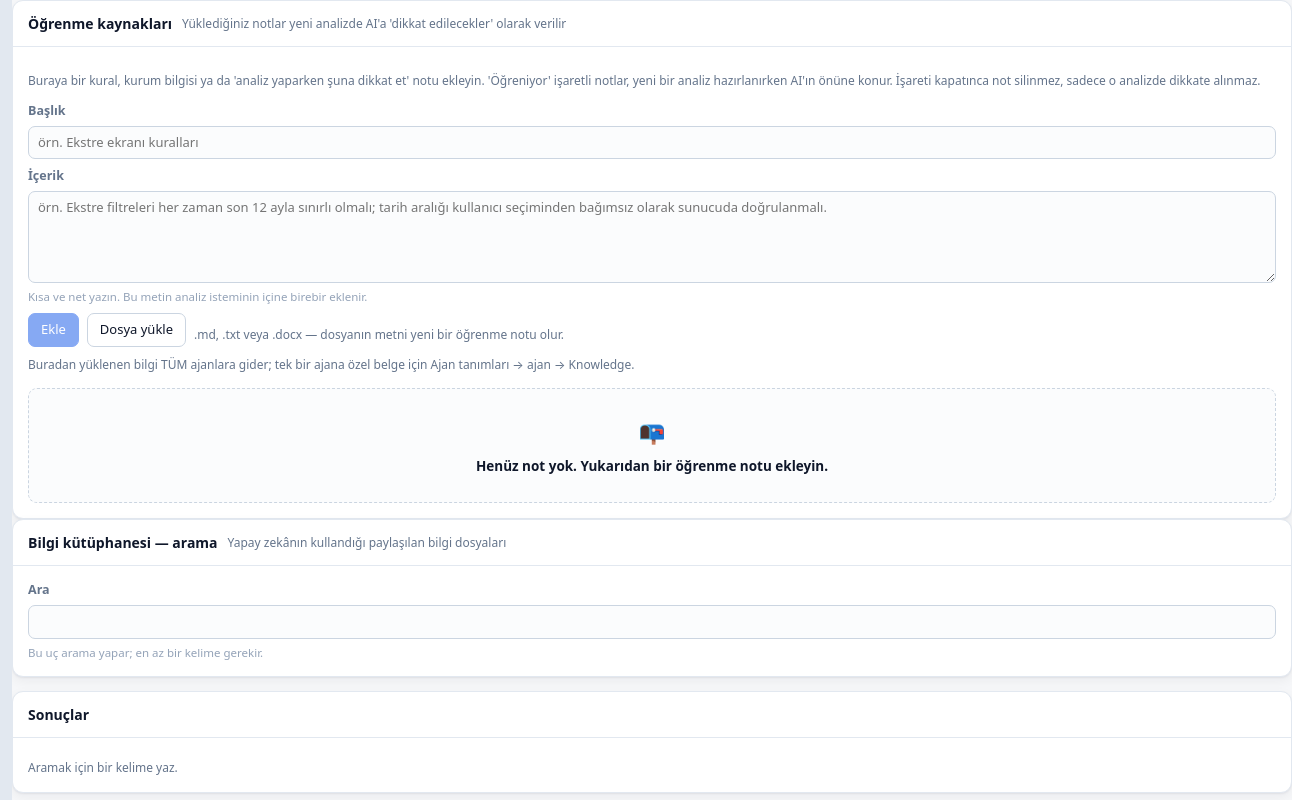
Scenario: KnowledgeScreen (data class fails closed) › drops confidential and untagged documents from the results
Type "limit" into the field labelled "Ara" at (652, 622), box top-left (28, 605), bottom-right (1276, 639)
(page scrolled)
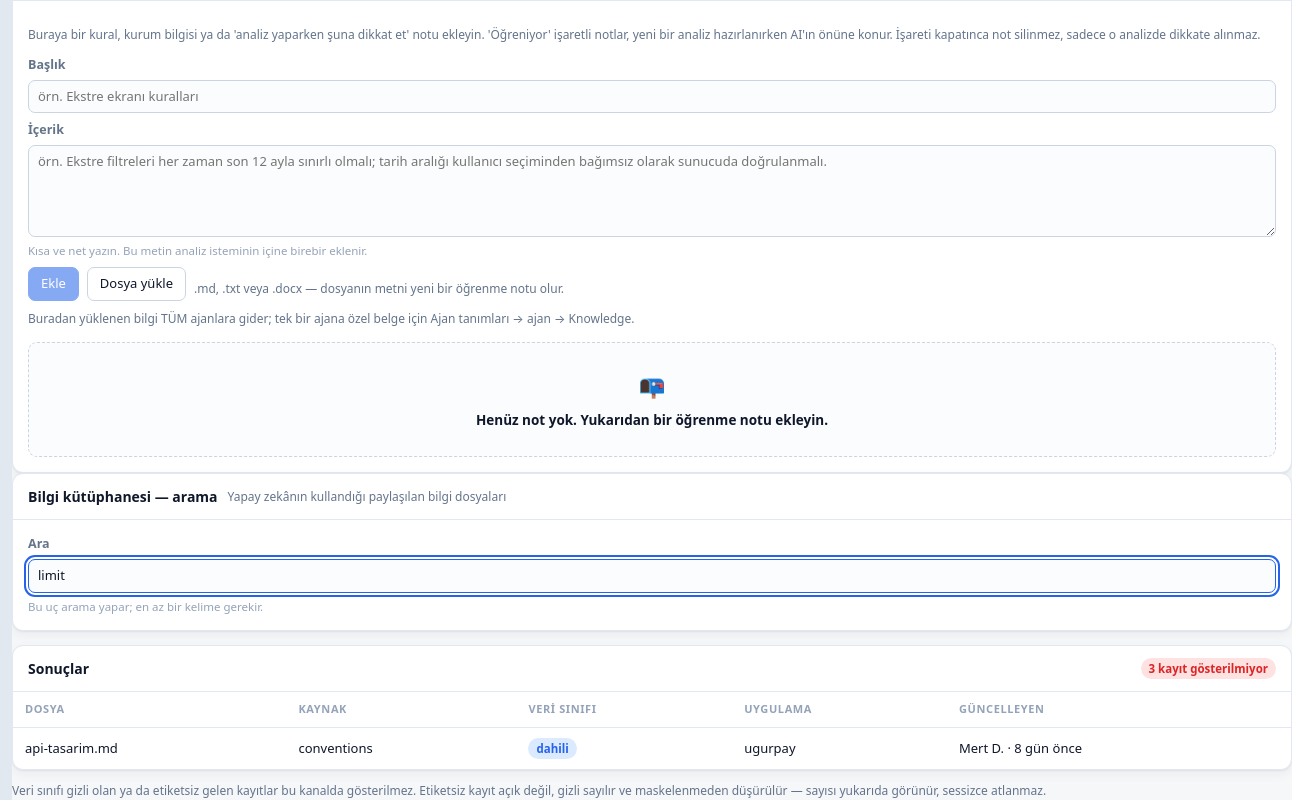
Check: the text "api-tasarim.md" is shown, box top-left (13, 727), bottom-right (286, 769)
